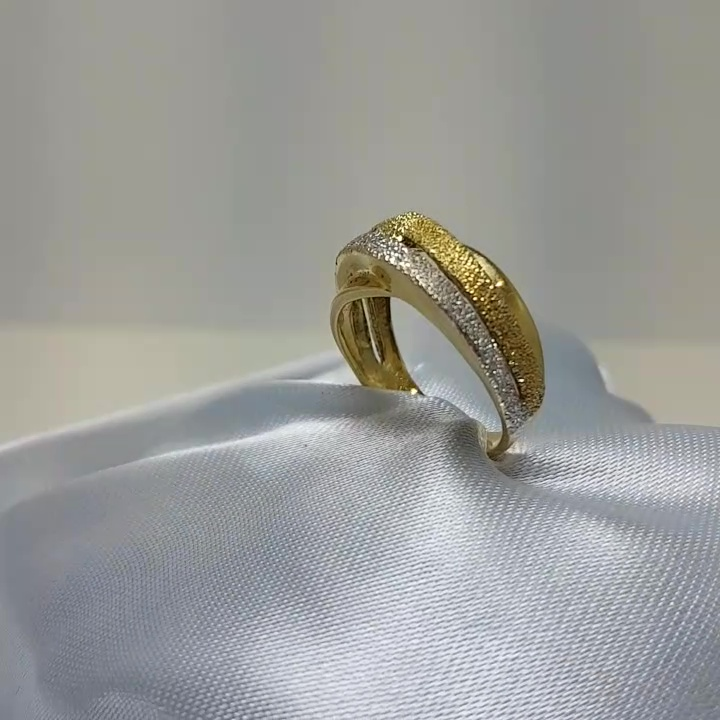Ring 5: (298, 191, 573, 477)
